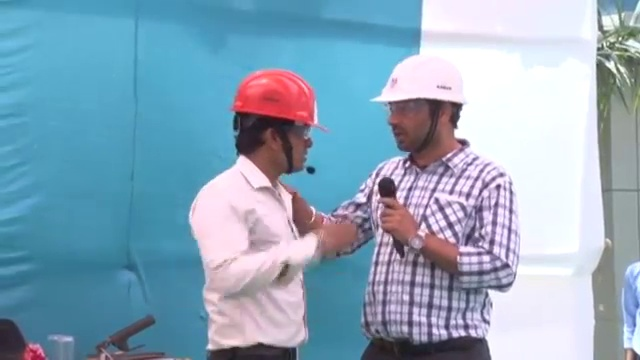helmet: (231, 68, 329, 133), (367, 53, 469, 107)
helmet_on: (230, 69, 330, 177), (363, 53, 468, 153)
person: (312, 54, 522, 360), (190, 68, 351, 360)
